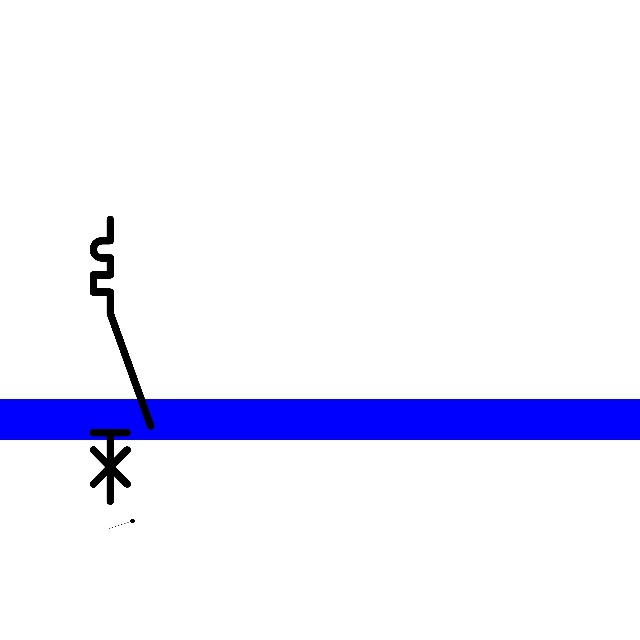interruptor_termomagnetico: (86, 212, 158, 508)
